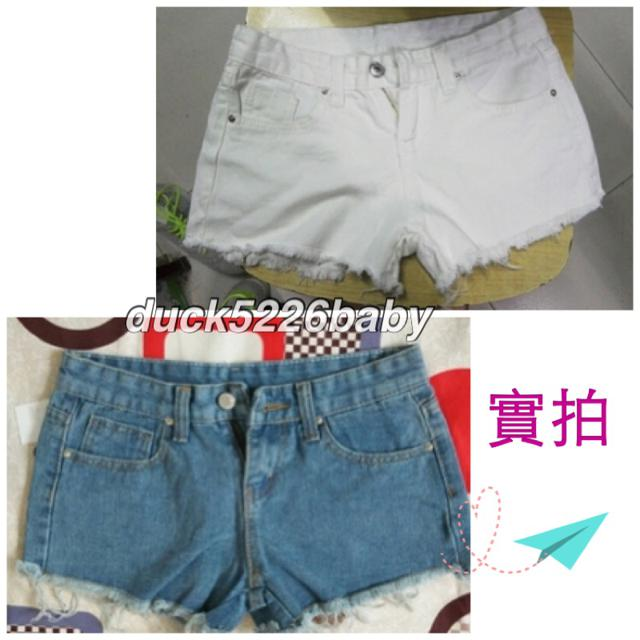Shorts: (17, 344, 468, 627), (184, 29, 604, 289)
